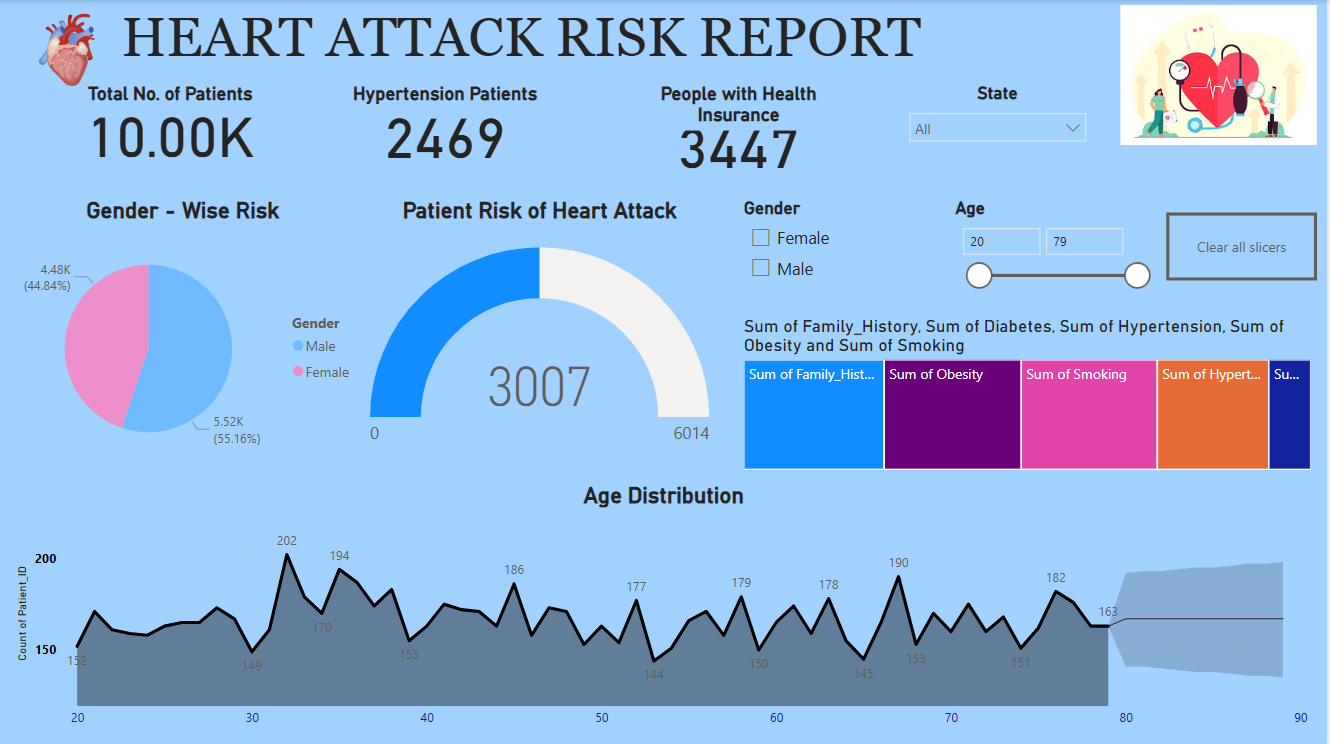

What the dashboard file says about the page in this screenshot:
{"tool":"powerbi","page":{"name":"Heart Attack Risk","canvas":[1280,720],"ordinal":0},"visuals":[{"type":"lineChart","title":"Age Distribution ","fields":{"Category":["heart_attack_prediction_india.Age"],"Y":["CountNonNull(heart_attack_prediction_india.Patient_ID)"]},"box":[10.9,465.7,1259.5,244.9],"z":0},{"type":"pieChart","title":"Gender - Wise Risk","fields":{"Category":["heart_attack_prediction_india.Gender"],"Y":["CountNonNull(heart_attack_prediction_india.Patient_ID)"]},"box":[0,190.6,352.8,267.8],"z":1000},{"type":"textbox","box":[111.8,0,804.3,80.3],"z":1001},{"type":"slicer","title":"Gender","fields":{"Values":["heart_attack_prediction_india.Gender"]},"box":[713.4,190.6,190.6,92.7],"z":1002},{"type":"slicer","title":"Age","fields":{"Values":["heart_attack_prediction_india.Age"]},"box":[916.9,190.6,202.2,92.7],"z":1003},{"type":"card","title":"Total No. of Patients","fields":{"Values":["CountNonNull(heart_attack_prediction_india.Patient_ID)"]},"box":[45.1,79.8,239.5,92.7],"z":1004},{"type":"actionButton","box":[1125.5,204.7,145.5,65.7],"z":1005},{"type":"gauge","title":"Patient Risk of Heart Attack","fields":{"Y":["Sum(heart_attack_prediction_india.Heart_Attack_Risk)"]},"box":[352.8,190.6,337.4,267.8],"z":1006},{"type":"image","box":[1071.9,0,207.8,144.8],"z":1007},{"type":"image","box":[22.9,0,89.3,92.9],"z":1008},{"type":"card","title":"Hypertension Patients","fields":{"Values":["Sum(heart_attack_prediction_india.Hypertension)"]},"box":[321.9,79.8,215.1,94],"z":1009},{"type":"card","title":"People with Health Insurance","fields":{"Values":["Sum(heart_attack_prediction_india.Health_Insurance)"]},"box":[600.1,79.8,226.6,94],"z":1010},{"type":"treemap","fields":{"Values":["Sum(heart_attack_prediction_india.Family_History)","Sum(heart_attack_prediction_india.Diabetes)","Sum(heart_attack_prediction_india.Hypertension)","Sum(heart_attack_prediction_india.Obesity)","Sum(heart_attack_prediction_india.Smoking)"]},"box":[713,303.8,557.2,154.3],"z":1011},{"type":"slicer","title":"State ","fields":{"Values":["heart_attack_prediction_india.State_Name"]},"box":[867.9,79.8,190.6,92.7],"z":1012}]}

Visuals, with their boxes in screenshot pixels (x1, y1, x2, y2), scaled from the page's 1280x720 canvas onto the 1330x744 screenshot:
"Age Distribution " lineChart: bbox=[11, 481, 1320, 734]
"Gender - Wise Risk" pieChart: bbox=[0, 197, 367, 474]
textbox: bbox=[116, 0, 952, 83]
"Gender" slicer: bbox=[741, 197, 939, 293]
"Age" slicer: bbox=[953, 197, 1163, 293]
"Total No. of Patients" card: bbox=[47, 82, 296, 178]
actionButton: bbox=[1169, 212, 1321, 279]
"Patient Risk of Heart Attack" gauge: bbox=[367, 197, 717, 474]
image: bbox=[1114, 0, 1329, 150]
image: bbox=[24, 0, 117, 96]
"Hypertension Patients" card: bbox=[334, 82, 558, 180]
"People with Health Insurance" card: bbox=[624, 82, 859, 180]
treemap - Sum(heart_attack_prediction_india.Family_History) x Sum(heart_attack_prediction_india.Diabetes): bbox=[741, 314, 1320, 473]
"State " slicer: bbox=[902, 82, 1100, 178]
